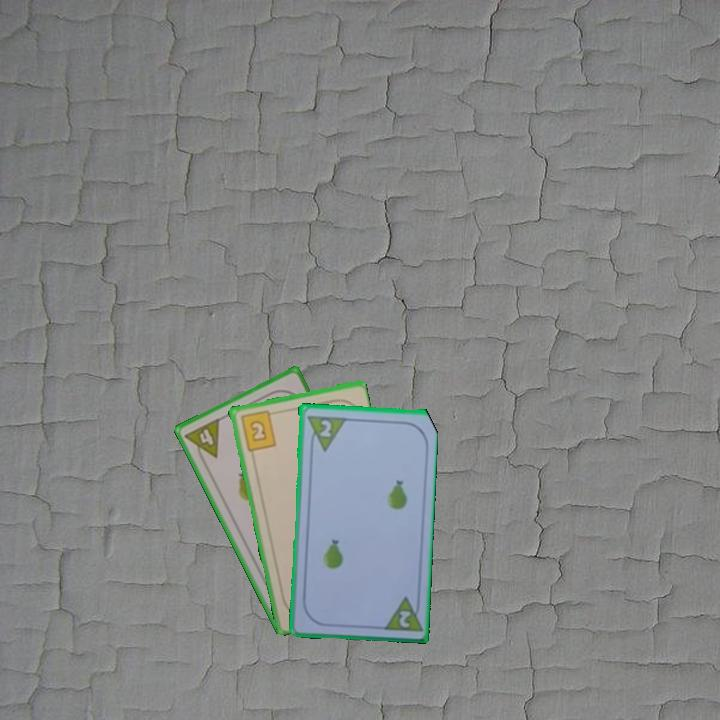2b: (237, 406, 279, 453)
2p: (379, 592, 423, 634), (303, 412, 347, 453)
4p: (181, 414, 223, 466)
